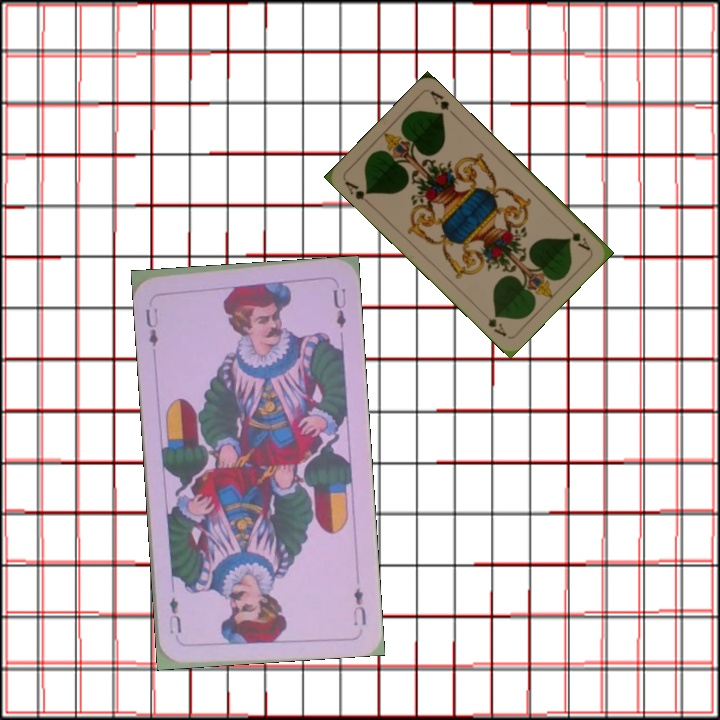EU: (141, 304, 161, 349), (349, 584, 369, 628)
GA: (341, 177, 374, 208), (562, 221, 593, 254)
